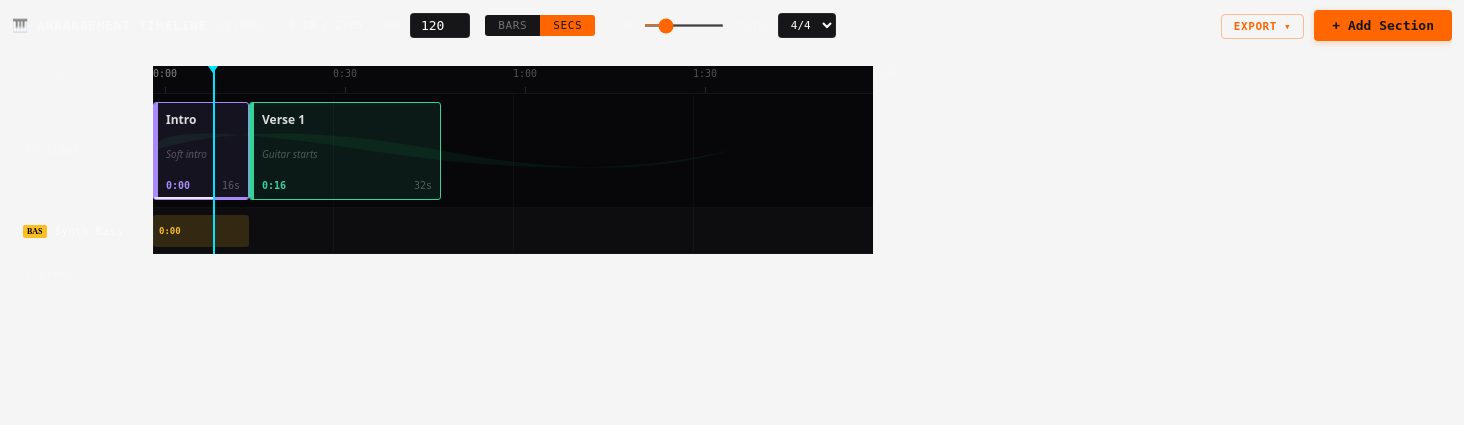
ArrangementTimelineWidget › shows section block context menu on right click
This screenshot has width=1464, height=425.
Note: Trigger right click / context menu on block
Press the mouse on the element with test id "section-block-sec-1" at coordinates (201, 151), box [153,102,249,200]
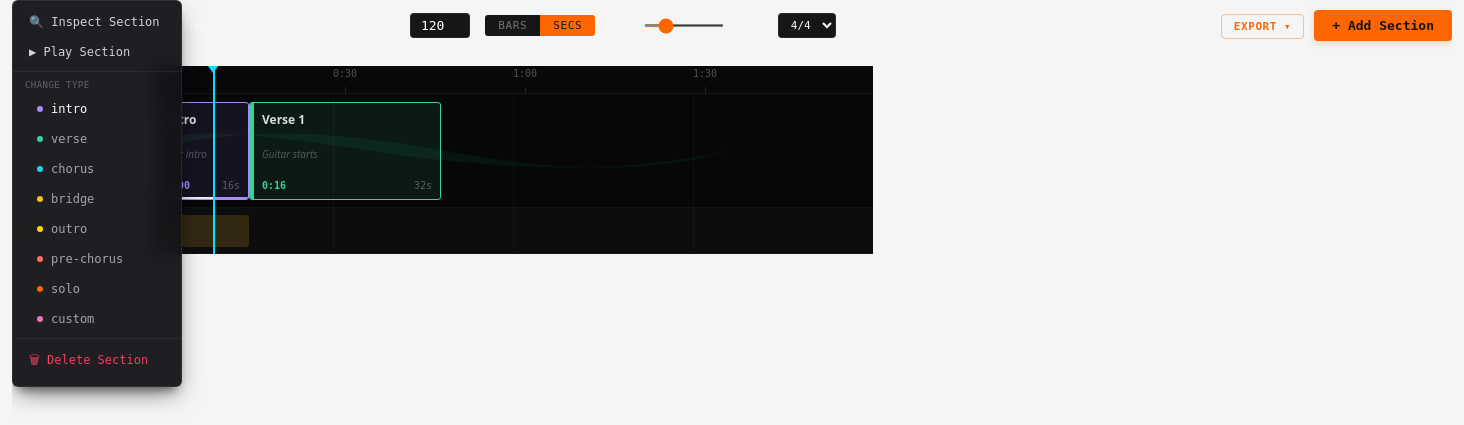
Expected: the button "🔍 Inspect Section" is shown, [13,7,181,37]
Expected: the button "▶ Play Section" is shown
Expected: the button "🗑 Delete Section" is shown, [13,343,181,380]
Note: Click play section
Click the button "▶ Play Section". click: coordinates (97, 52)
box: [13,37,181,67]
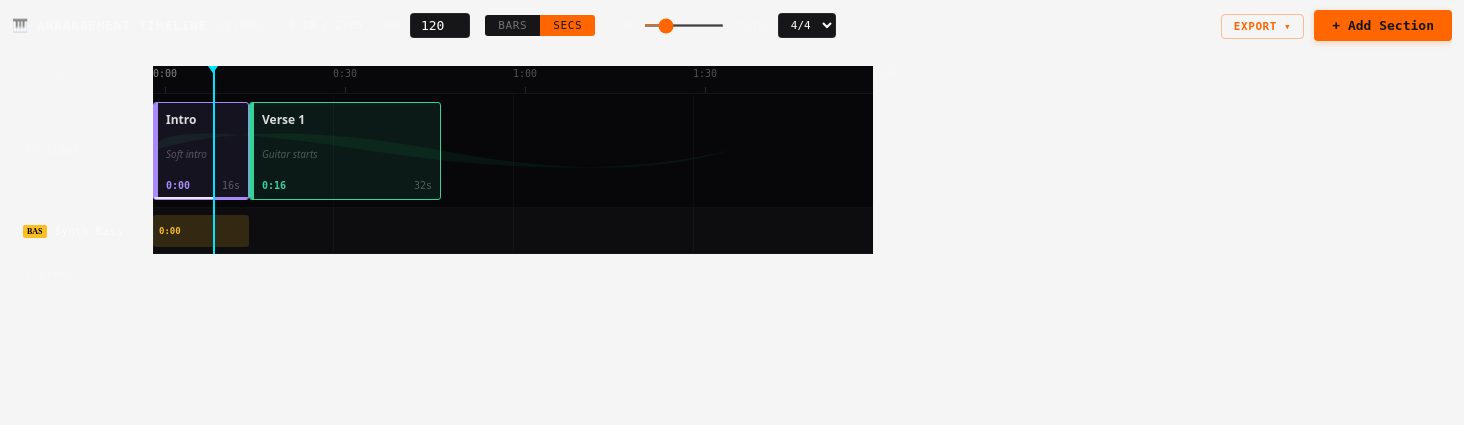
Expected: the button "Inspect Section" is gone
